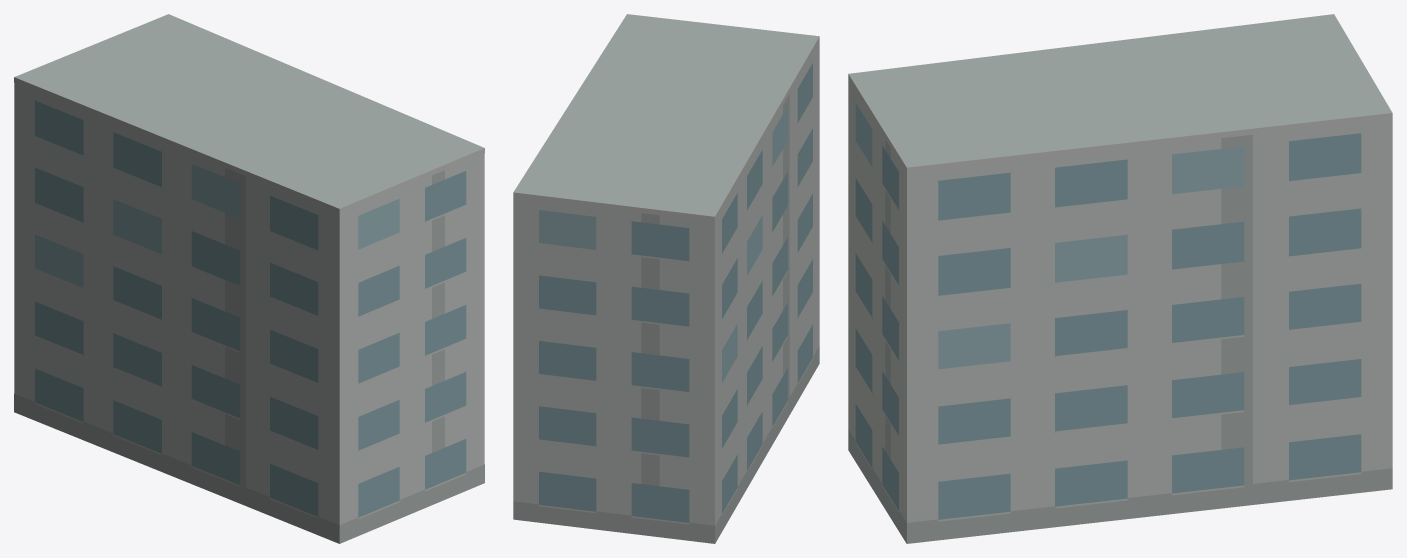
File: residential-851accfd-f016-4eac-bd59-c6310cdf91fa.glb
The picture shows the model from 3 angles, left to right: view 1: azimuth 30°, elevation 25°; view 2: azimuth 150°, elevation 25°; view 3: azimuth 270°, elevation 25°; orthographic projection. The views are drawn at different scales.
Visible parts, largest first — view 1: residential-851accfd-f016-4eac-bd59-c6310cdf91fa.tmp; view 2: residential-851accfd-f016-4eac-bd59-c6310cdf91fa.tmp; view 3: residential-851accfd-f016-4eac-bd59-c6310cdf91fa.tmp.
Boxes of the visible parts, box(x1,y1,x2,y2) form: residential-851accfd-f016-4eac-bd59-c6310cdf91fa.tmp: box(14, 14, 484, 543); residential-851accfd-f016-4eac-bd59-c6310cdf91fa.tmp: box(513, 14, 819, 543); residential-851accfd-f016-4eac-bd59-c6310cdf91fa.tmp: box(848, 14, 1392, 543).
Bounding box in the file's own units: 13.36 × 15.25 × 20.
